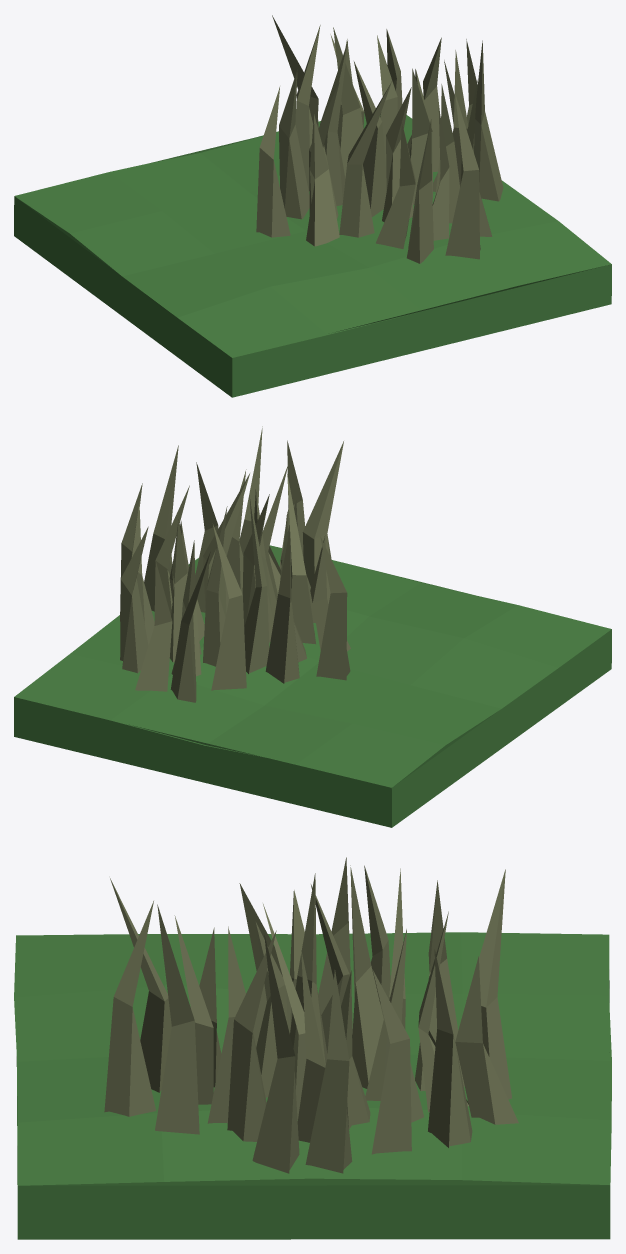
The model's file is Grass03.fbx.
3 renders of one model, top to bottom at view 1: azimuth 30°, elevation 25°; view 2: azimuth 150°, elevation 25°; view 3: azimuth 270°, elevation 25°, orthographic. The views are drawn at different scales.
Parts seen in each view (by area): view 1: Cube, Grass.004, Grass.003, Grass.002, Grass; view 2: Cube, Grass, Grass.004, Grass.002, Grass.003; view 3: Cube, Grass.002, Grass.003, Grass, Grass.004.
Part boxes in pixels (x1=…): Cube: x1=14, y1=113, x2=611, y2=397; Grass.004: x1=256, y1=41, x2=391, y2=246; Grass.003: x1=376, y1=80, x2=492, y2=263; Grass.002: x1=407, y1=37, x2=503, y2=204; Grass: x1=272, y1=15, x2=402, y2=191; Cube: x1=14, y1=545, x2=611, y2=827; Grass: x1=120, y1=506, x2=246, y2=702; Grass.004: x1=242, y1=474, x2=350, y2=683; Grass.002: x1=120, y1=445, x2=249, y2=645; Grass.003: x1=226, y1=426, x2=343, y2=622; Cube: x1=14, y1=932, x2=611, y2=1239; Grass.002: x1=227, y1=904, x2=411, y2=1173; Grass.003: x1=104, y1=878, x2=287, y2=1134; Grass: x1=365, y1=868, x2=518, y2=1147; Grass.004: x1=239, y1=857, x2=390, y2=1088.
Size of the model in its own units: 201 by 105 by 202.
